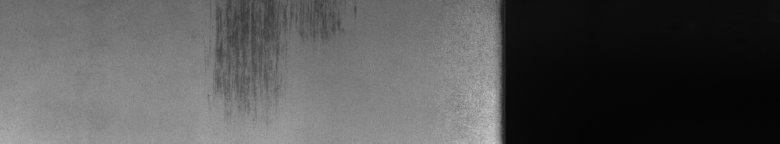ka: (216, 4, 356, 86)
